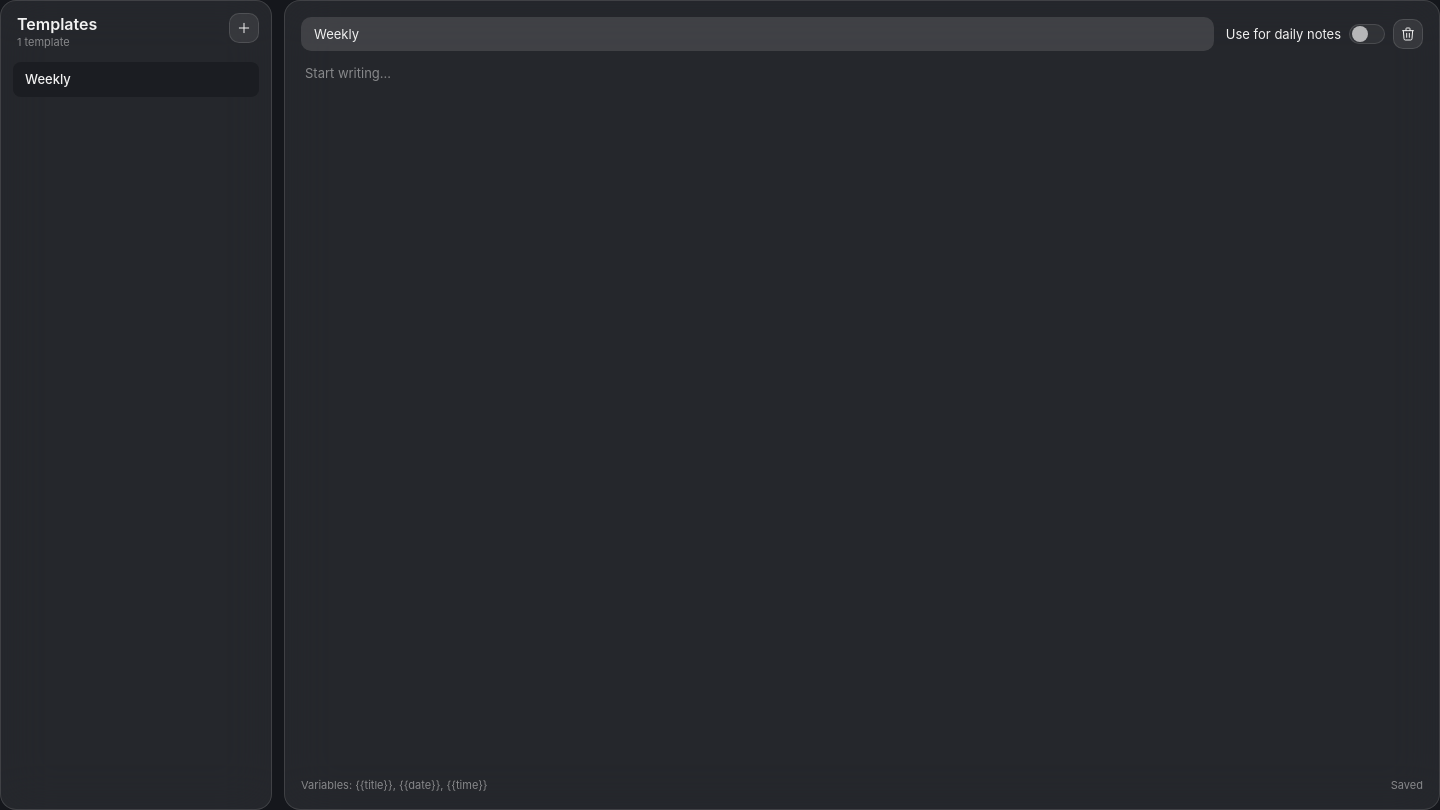
Test: deleting › shows the server message when a delete fails
Step 1. Click the button named "Delete template" → (1408, 34), box [1393, 19, 1423, 49]
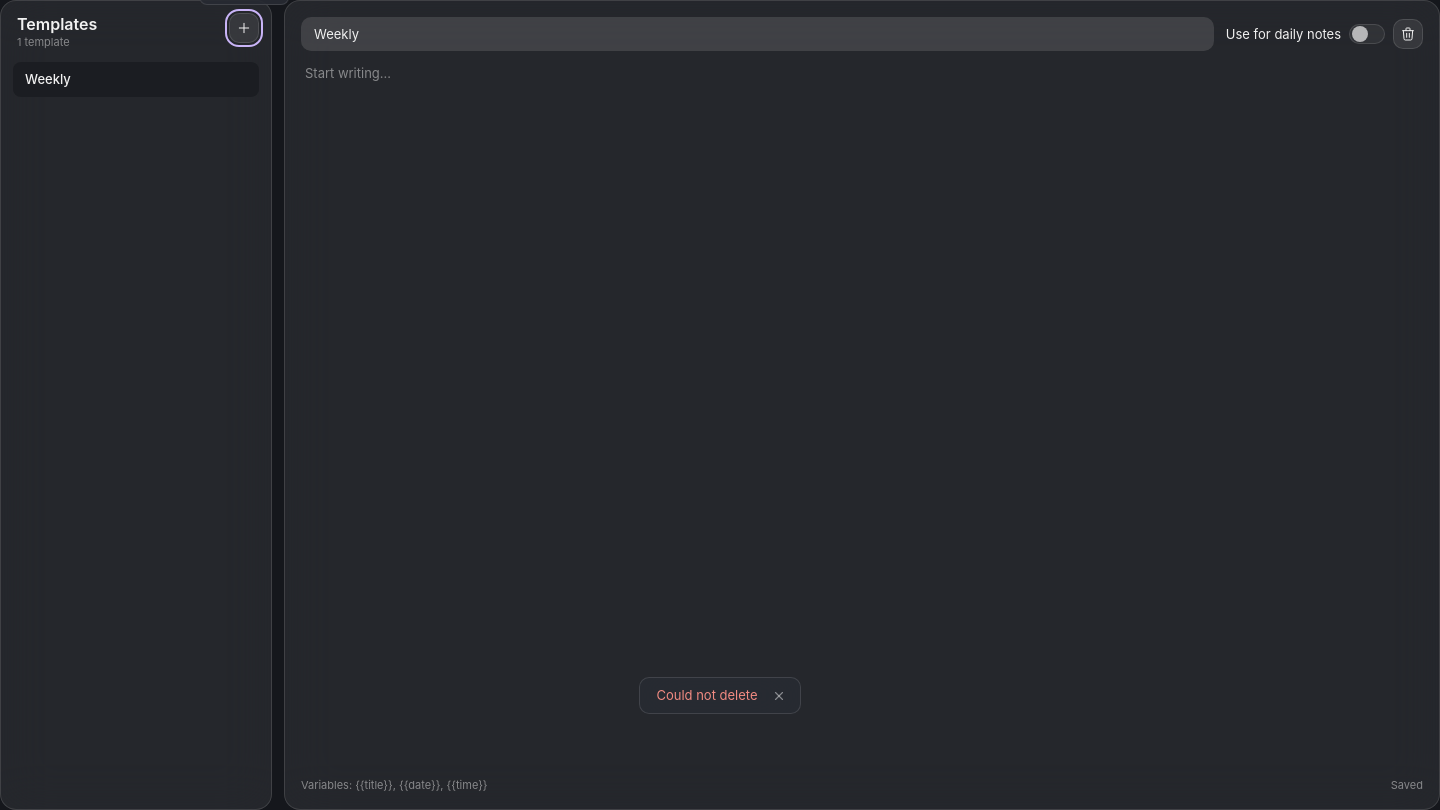
expect the text "Could not delete" is shown: met, box [656, 686, 758, 705]
